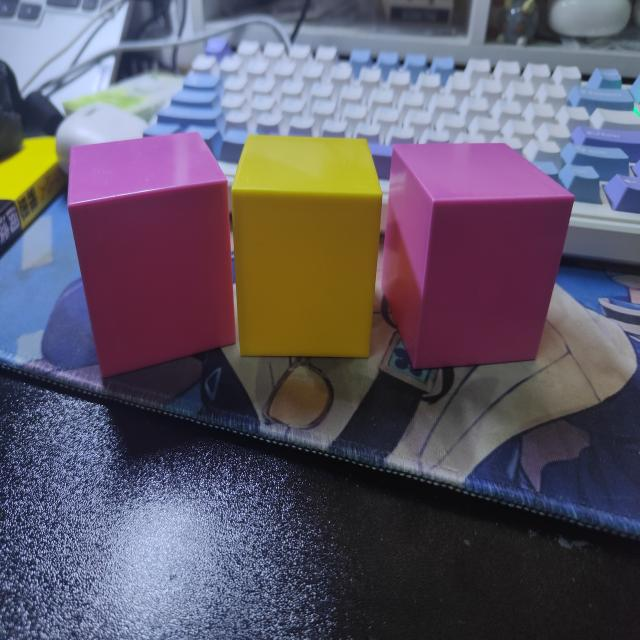pink: (378, 142, 574, 374), (66, 131, 237, 381)
yellow: (231, 136, 383, 362)
